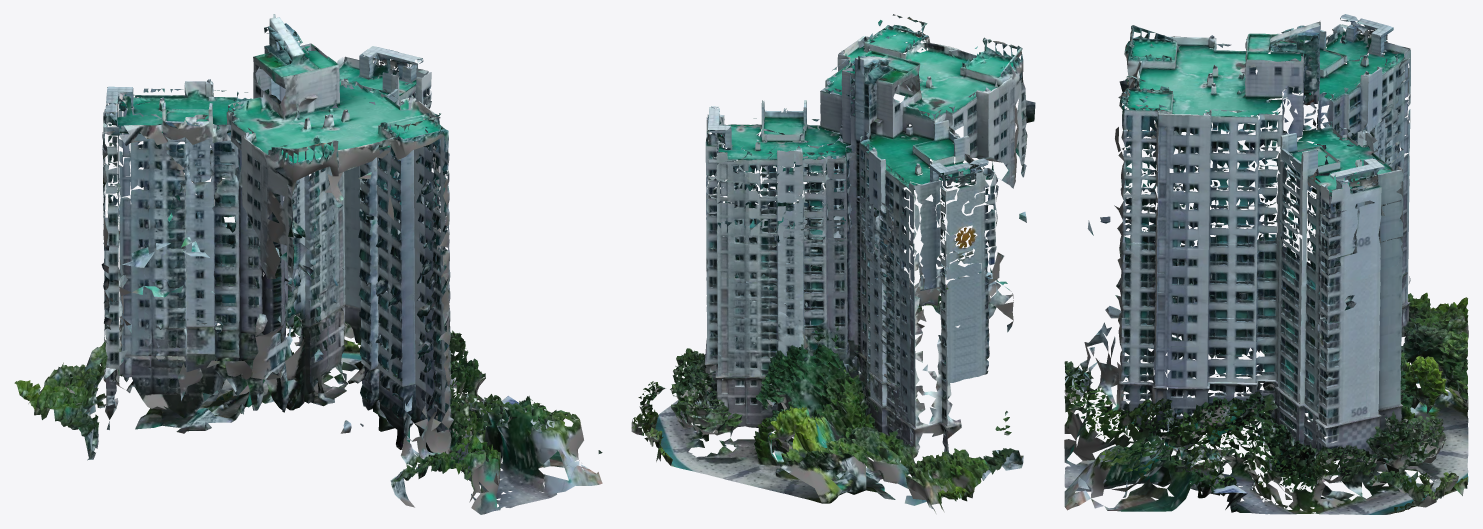
The model's file is all_edited-transformed.glb.
The picture shows the model from 3 angles, left to right: view 1: azimuth 30°, elevation 25°; view 2: azimuth 150°, elevation 25°; view 3: azimuth 270°, elevation 25°; orthographic projection. The views are drawn at different scales.
Parts seen in each view (by area): view 1: Tile_1; view 2: Tile_1; view 3: Tile_1.
Part boxes in pixels (box(x1,y1,x2,y2)): Tile_1: box(14, 14, 602, 514); Tile_1: box(631, 14, 1035, 512); Tile_1: box(1064, 14, 1468, 514).
Bounding box in the file's own units: 55.3 × 59.82 × 53.64.
Materials: 1 (1 with a texture image).
